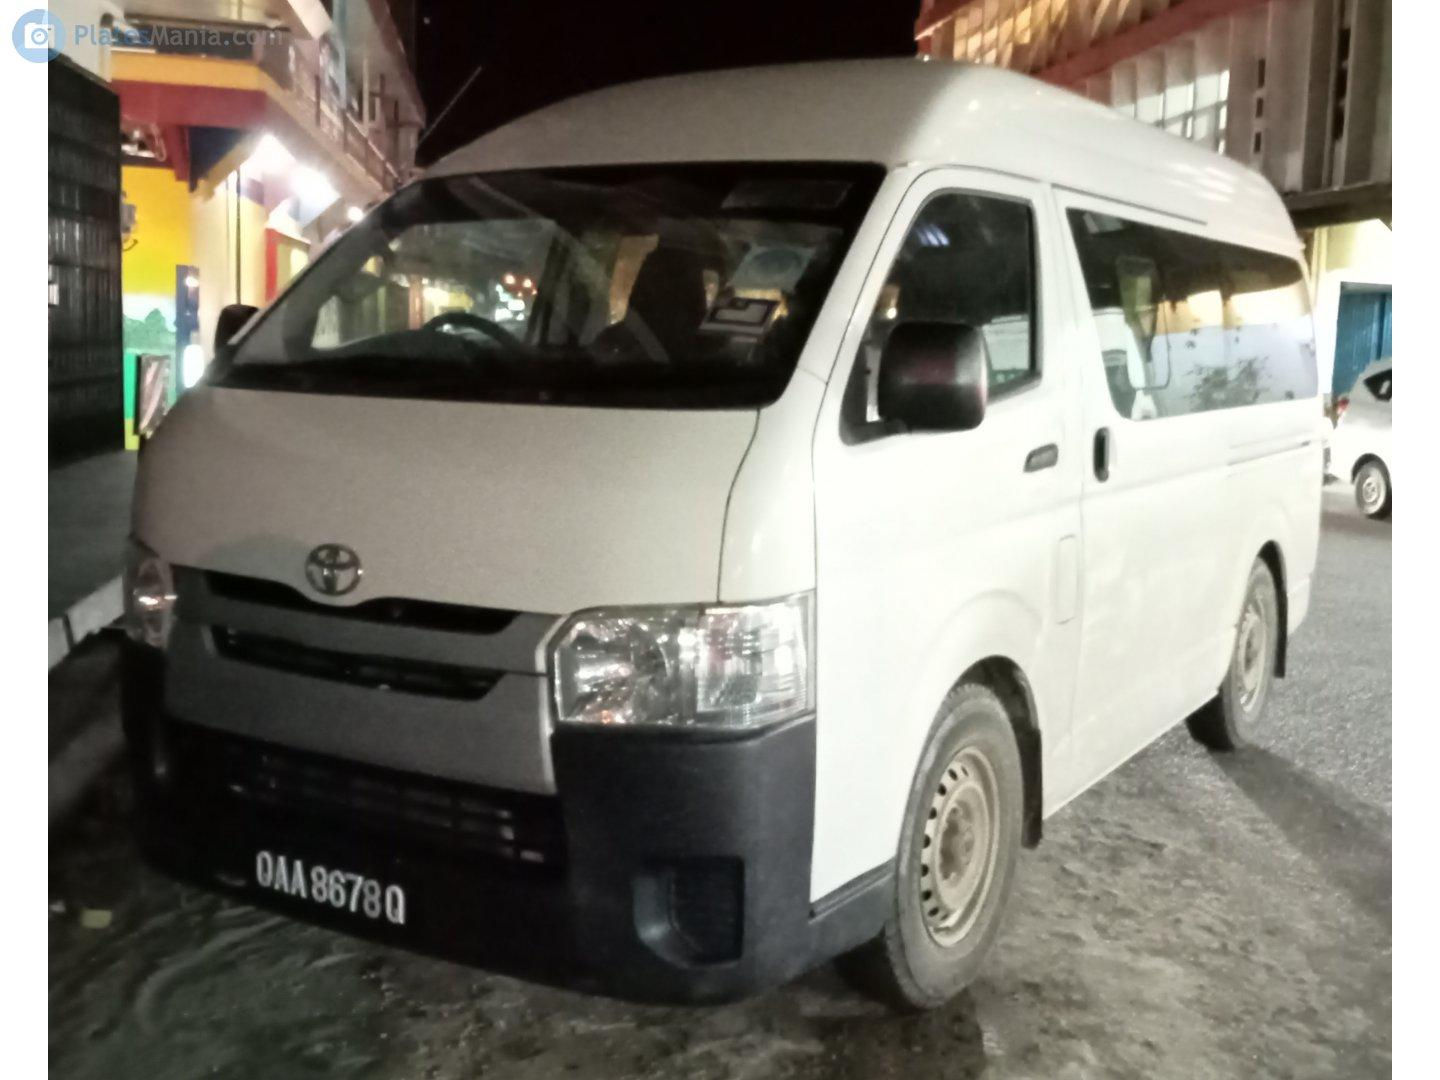License Plate: (244, 837, 426, 937)
